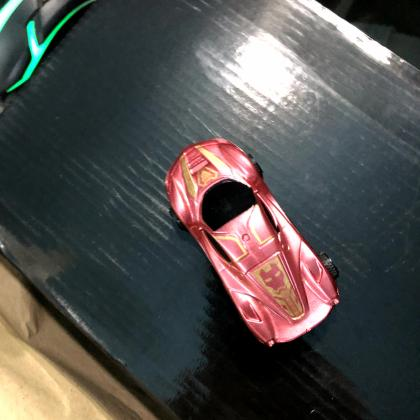Car: (162, 135, 343, 349)
